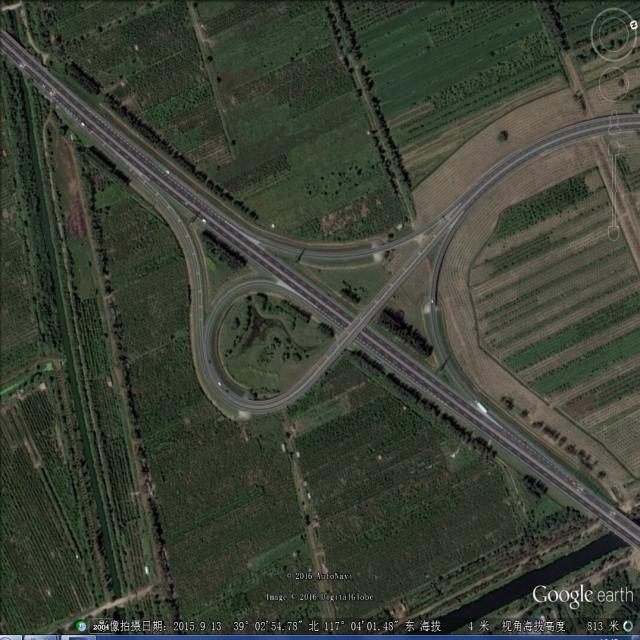overpass: (138, 156, 478, 441)
